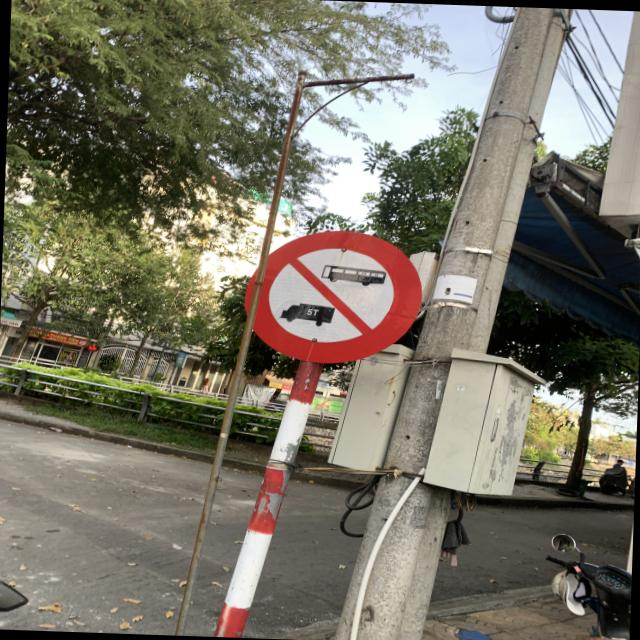Cam_XeTai_XeKhach: (244, 226, 425, 364)
